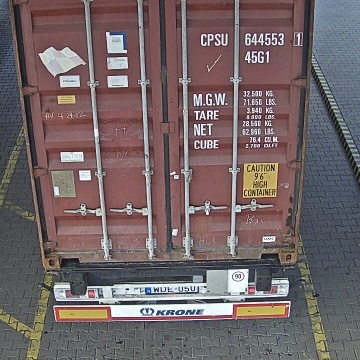serial_id: (201, 32, 302, 46)
